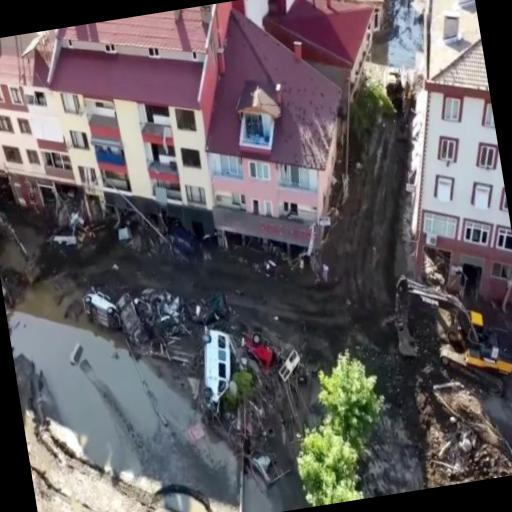flood: (9, 313, 193, 465), (371, 0, 426, 69), (15, 271, 83, 324), (242, 475, 274, 512)
house: (155, 0, 395, 262), (377, 0, 512, 334), (46, 6, 228, 213), (0, 30, 73, 209)
